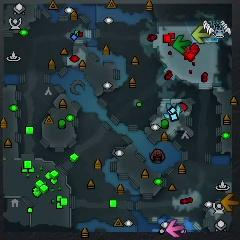x1: (165, 219, 185, 238)
x2: (192, 26, 210, 44)
x3: (164, 103, 181, 121)
x4: (173, 34, 192, 54)
x5: (221, 193, 238, 213)
